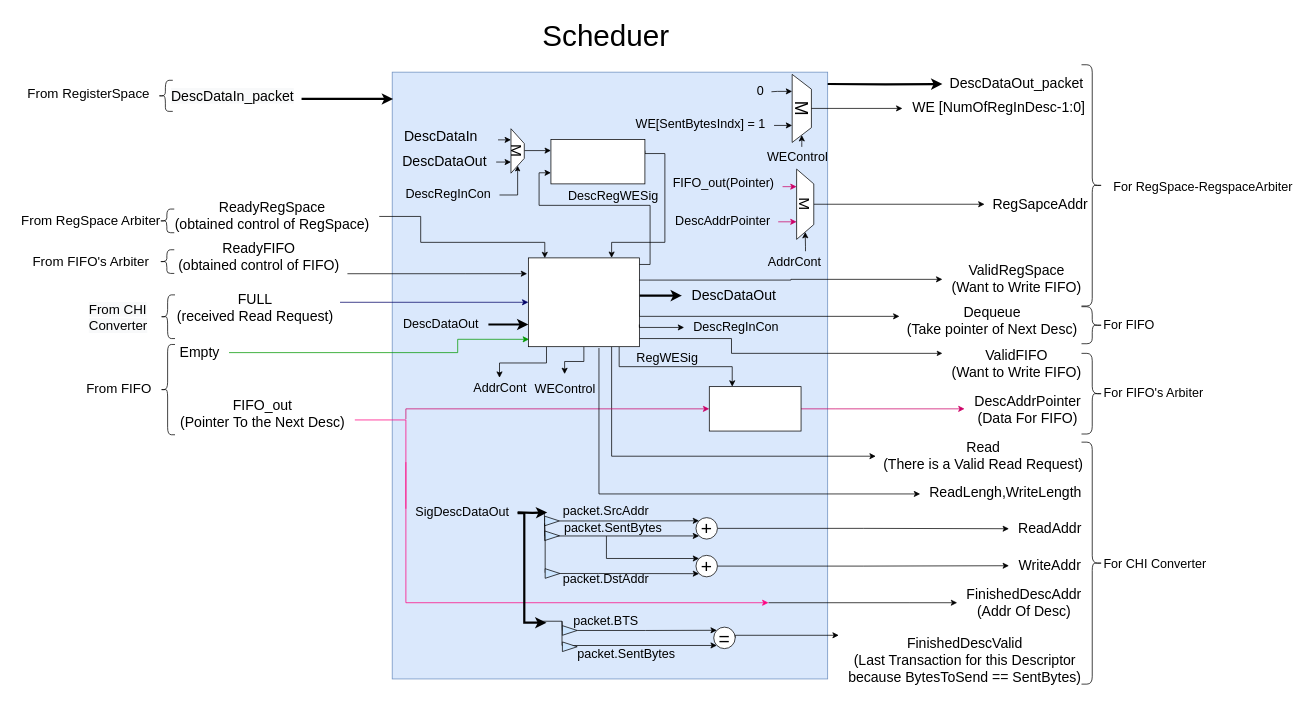
Some shapes in this 1315 by 702 pixel diagram are drawn without their labels. The shapes that lost their labels are listed below. From the top down, each one's centre as x and y in pixels, then its label:
At point (597, 161): "DescReg".
At point (583, 302): "FSM".
At point (755, 408): "REGISTER (keepAddr FromFIFO)".
